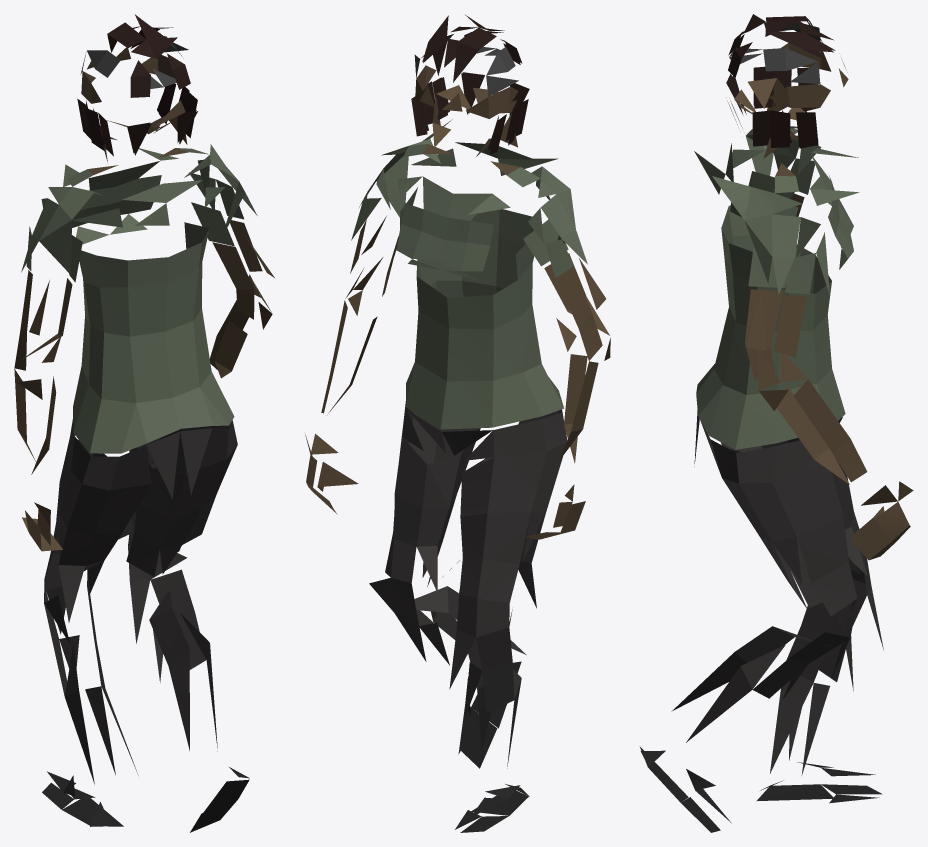
The model's file is personfar_7_w2.fbx.
3 renders of one model, left to right at view 1: azimuth 30°, elevation 25°; view 2: azimuth 150°, elevation 25°; view 3: azimuth 270°, elevation 25°, orthographic. The views are drawn at different scales.
Visible parts, largest first — view 1: Female; view 2: Female; view 3: Female.
Boxes of the visible parts, bbox=[...] form: Female: bbox=[14, 14, 274, 832]; Female: bbox=[305, 15, 610, 832]; Female: bbox=[639, 14, 913, 832].
Size of the model in its own units: 0.3359 by 0.9854 by 0.3039.
